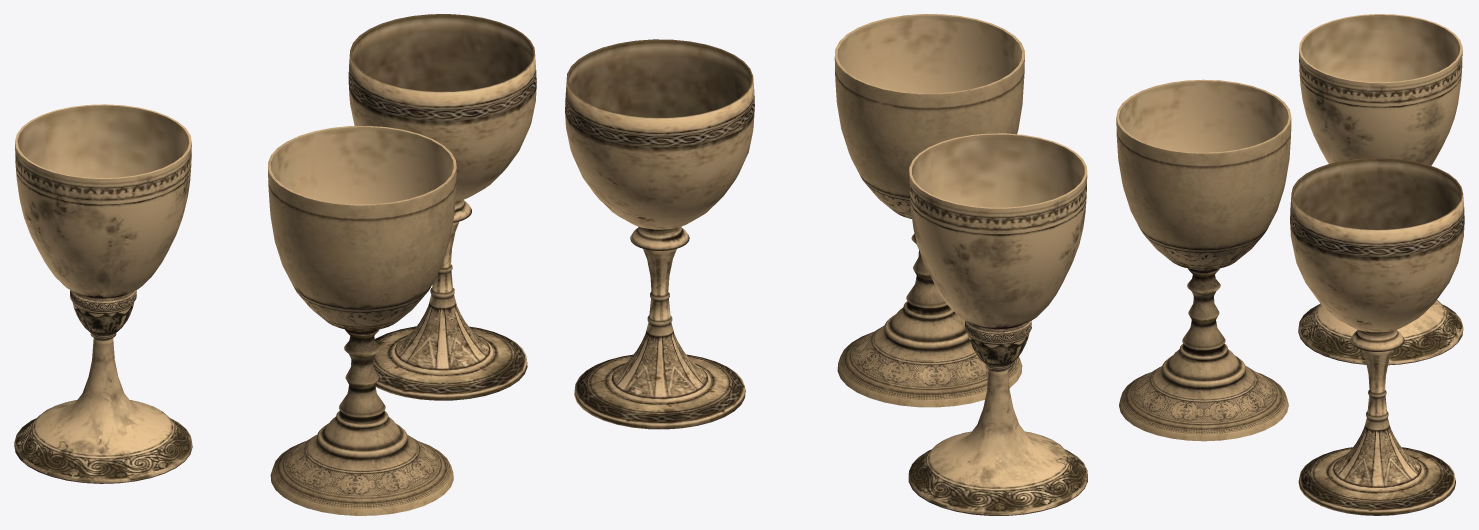
File: brass_goblets.glb
The picture shows the model from 3 angles, left to right: view 1: azimuth 30°, elevation 25°; view 2: azimuth 150°, elevation 25°; view 3: azimuth 270°, elevation 25°; orthographic projection. The views are drawn at different scales.
Parts seen in each view (by area): view 1: brass_goblet_01, brass_goblet_02, brass_goblet_03; view 2: brass_goblet_02, brass_goblet_03, brass_goblet_01; view 3: brass_goblet_01, brass_goblet_03, brass_goblet_02.
Boxes of the visible parts, x1,y1,x2,y2 form: brass_goblet_01: (268,126,456,515); brass_goblet_02: (14,104,192,483); brass_goblet_03: (348,14,536,400); brass_goblet_02: (908,133,1087,515); brass_goblet_03: (565,39,754,429); brass_goblet_01: (834,14,1024,407); brass_goblet_01: (1116,79,1291,441); brass_goblet_03: (1290,157,1464,515); brass_goblet_02: (1298,14,1463,365).
Bounding box in the file's own units: 0.4534 × 0.2734 × 0.2976.
3 materials, 3 textured.
